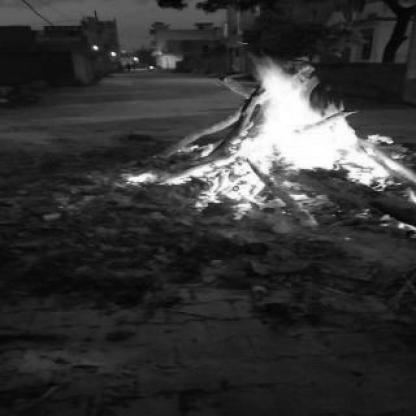fire: (178, 52, 386, 222)
